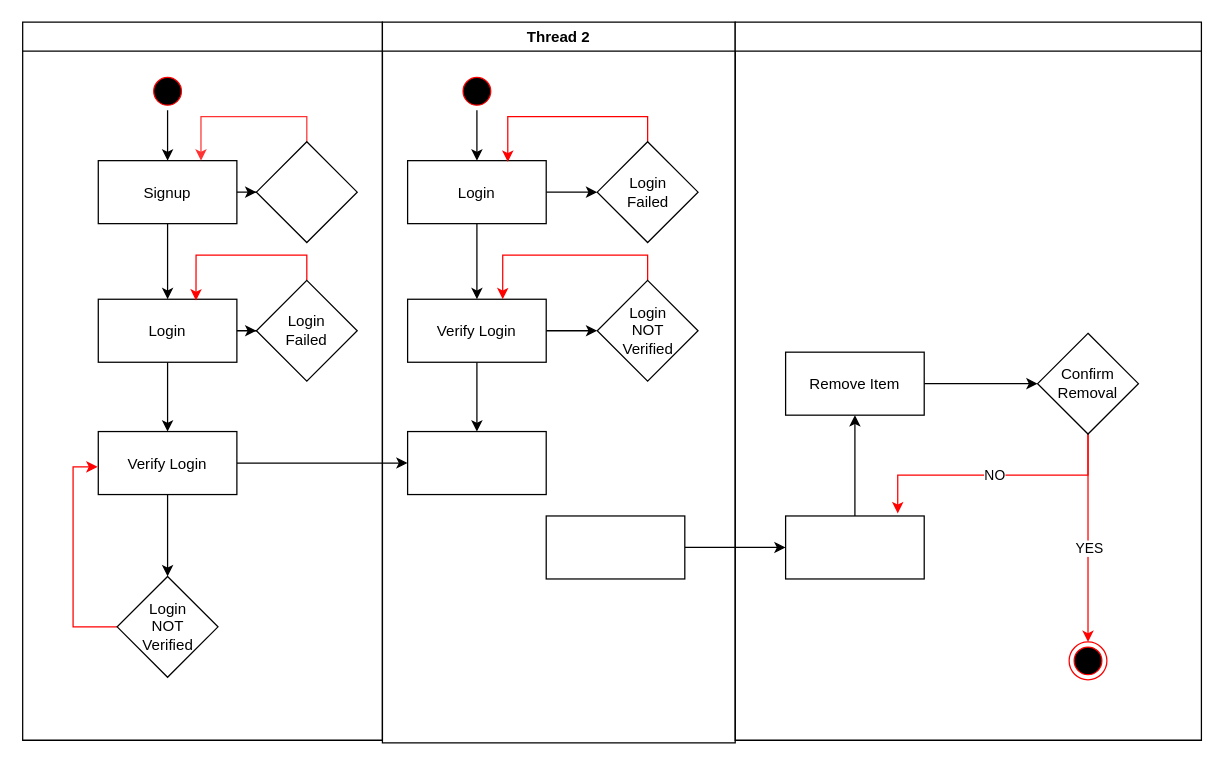
Some shapes in this 1223 by 765 pixel diagram are drawn without their labels. The shapes that lost their labels are listed below. From the top down, each one's box as (x1, y1, x2, y2) in pixels, then its label:
(255, 140, 357, 243): Signup Failed
(21, 21, 382, 740): Thread 1
(734, 21, 1201, 740): Thread 3
(406, 430, 546, 495): Menu
(545, 515, 685, 579): Cart
(784, 515, 924, 579): View Cart
